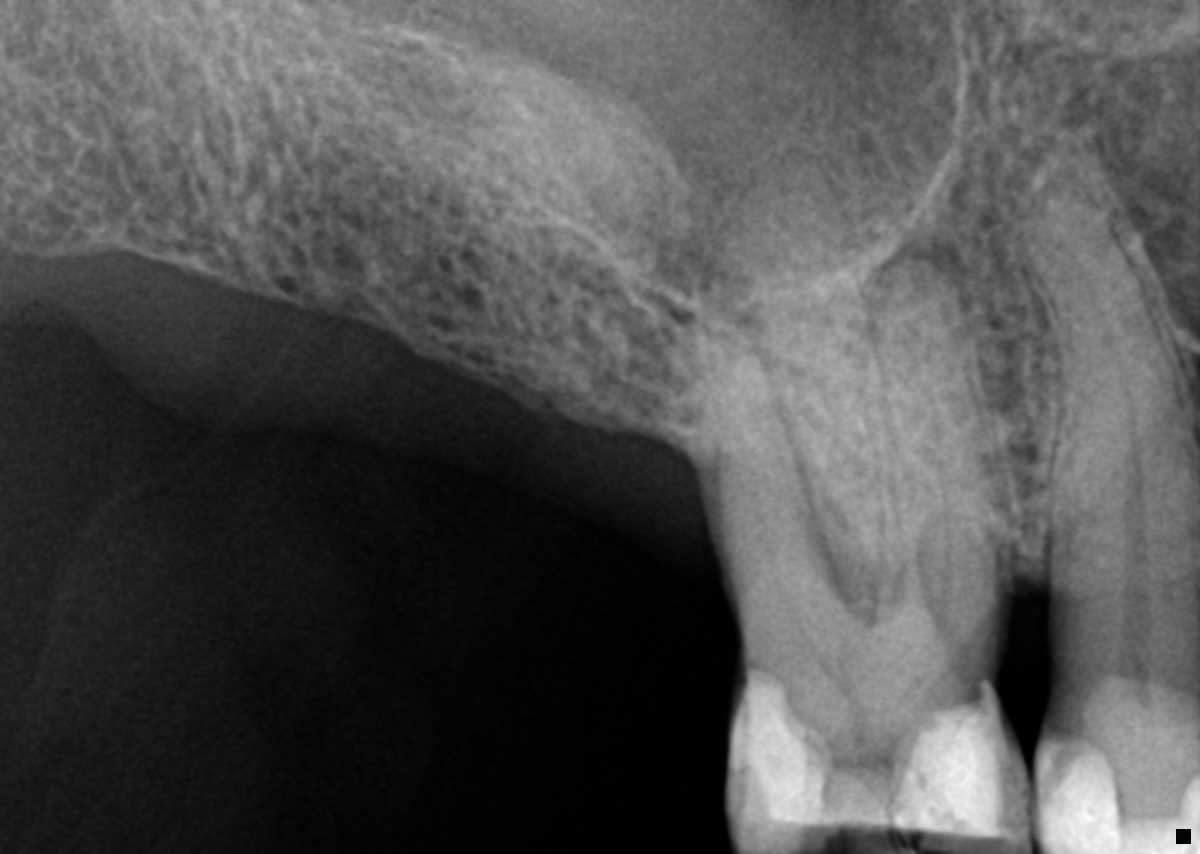Apical Lesion: (854, 230, 970, 313), (670, 307, 768, 399)
Distal Canal: (736, 410, 824, 673)
Distal Root: (688, 350, 836, 629)
Main Canal: (1053, 241, 1141, 603)
Main Root: (1015, 187, 1200, 609)
Mesial Canal: (916, 363, 951, 674)
Mesial Root: (865, 270, 1016, 601)
Palatal Root: (711, 156, 952, 660)
